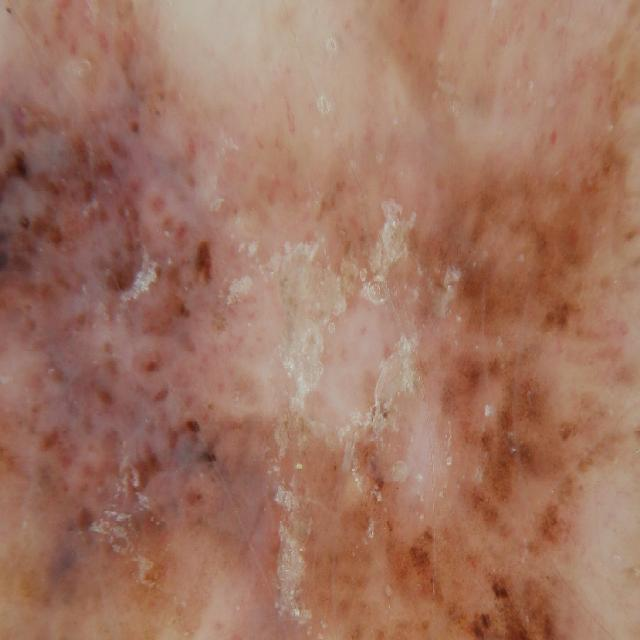Melanoma: (237, 219, 612, 640), (0, 82, 191, 640)
